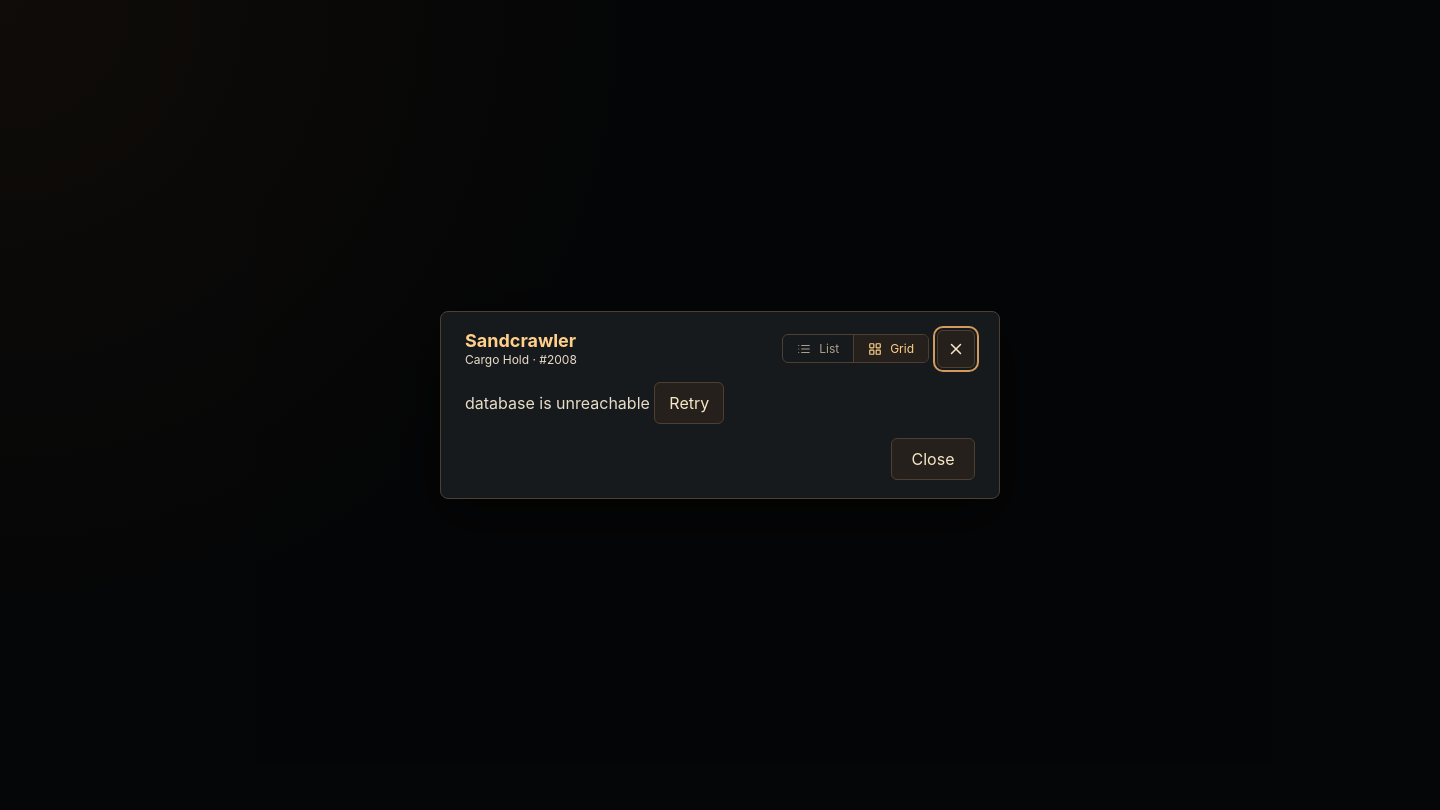
Test: VehicleStorageOverlay › surfaces a load failure with a working retry
expect the message shows "database is unreachable": met, box [465,394,650,414]
Click the button "Retry" at (689, 404), box [654,382,724,424]
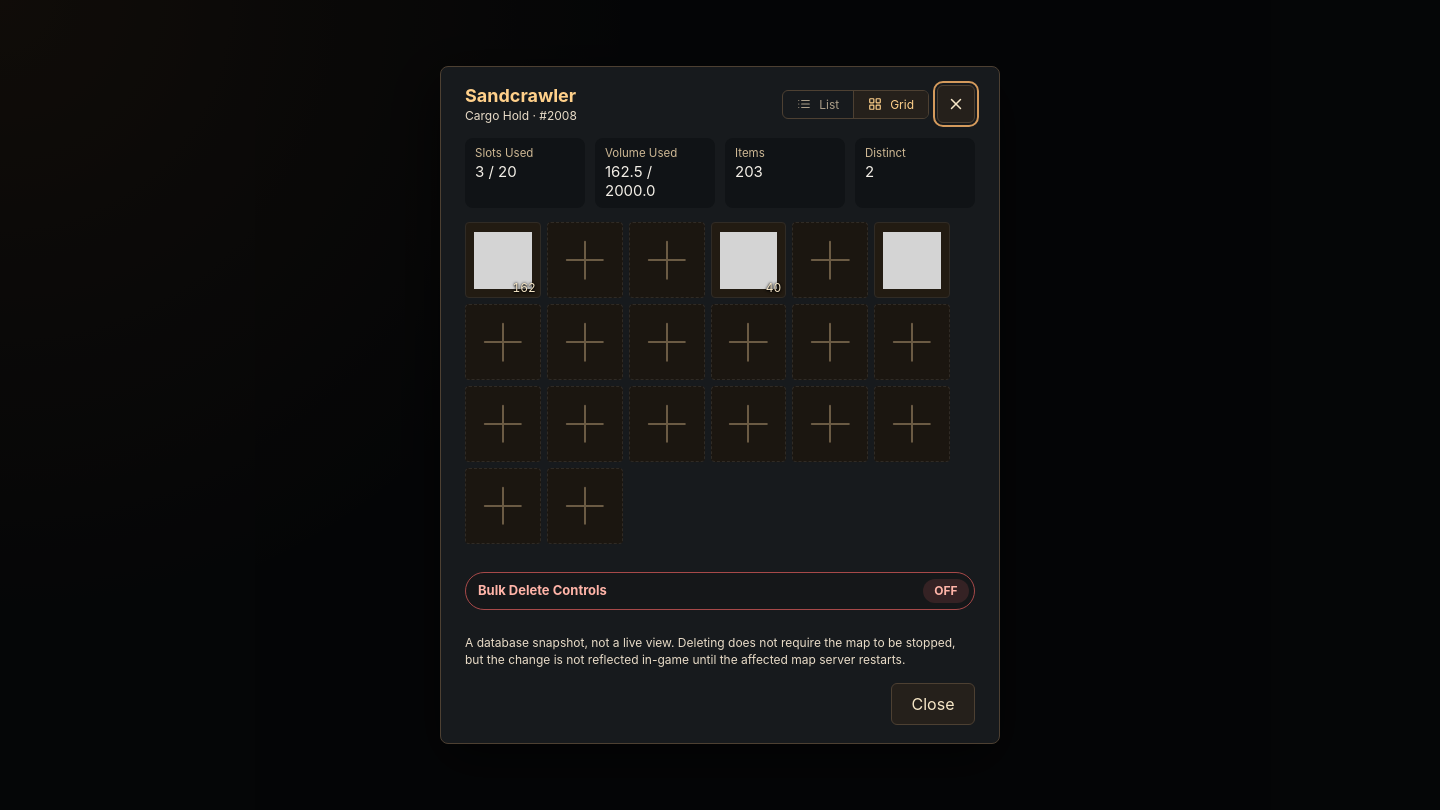
expect the text "Slots Used" is shown: met, box [475,146,533,160]
expect the message "database is unreachable Retry" is gone: met
